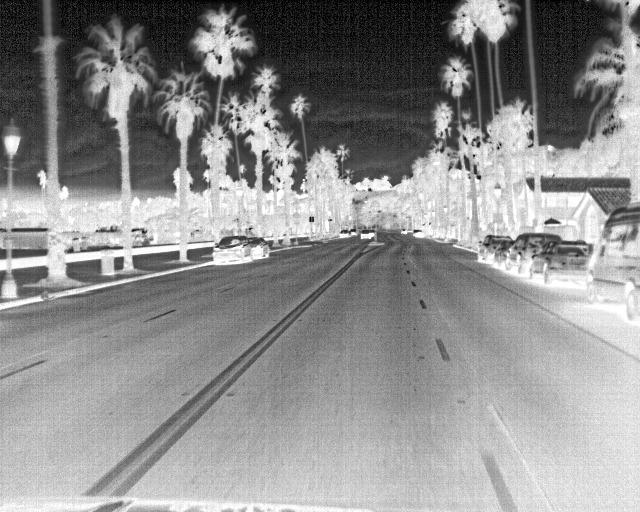car: (585, 206, 637, 321), (528, 241, 587, 288), (501, 233, 560, 275), (210, 235, 249, 266), (479, 237, 511, 265), (245, 238, 267, 258), (360, 227, 374, 239), (338, 227, 351, 239), (348, 226, 357, 238)
